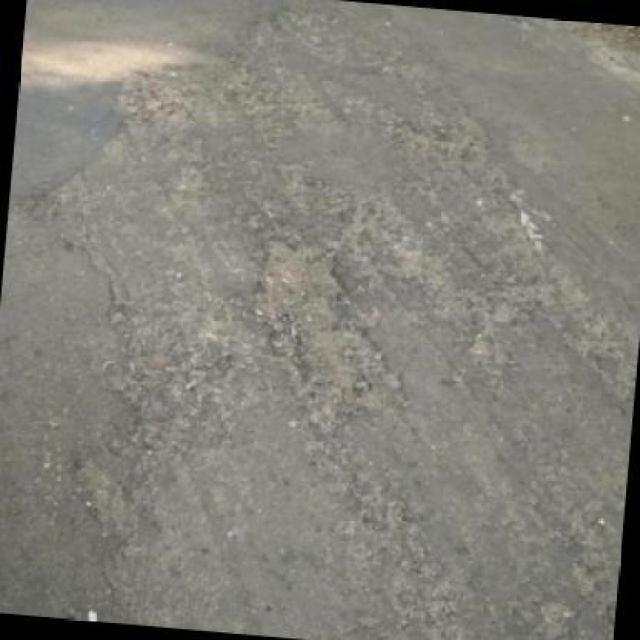Pothole: (263, 246, 403, 428)
